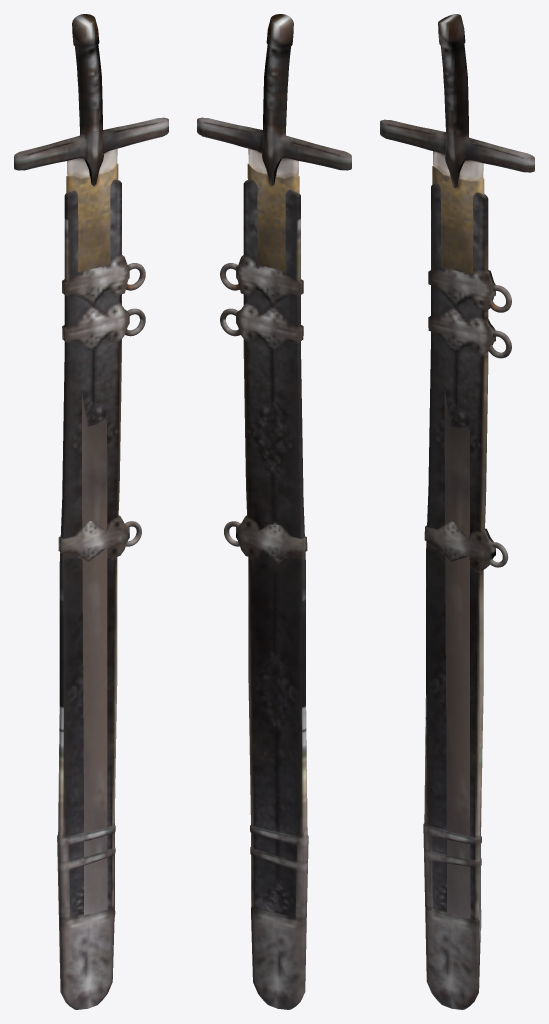
Rendered from sword_done.glb.
3 renders of one model, left to right at view 1: azimuth 30°, elevation 25°; view 2: azimuth 150°, elevation 25°; view 3: azimuth 330°, elevation 25°, orthographic.
Parts seen in each view (by area): view 1: Sword2, Sword1; view 2: Sword2, Sword1; view 3: Sword2, Sword1.
Part boxes in pixels (x1,y1,x2,y2): Sword2: (57,179,145,1009); Sword1: (14,14,168,916); Sword2: (220,179,308,1009); Sword1: (197,14,351,907); Sword2: (423,183,511,1009); Sword1: (380,14,534,939).
Bounding box in the file's own units: 0.4672 × 2.86 × 0.0691.
Materials: 2 (2 with a texture image).
